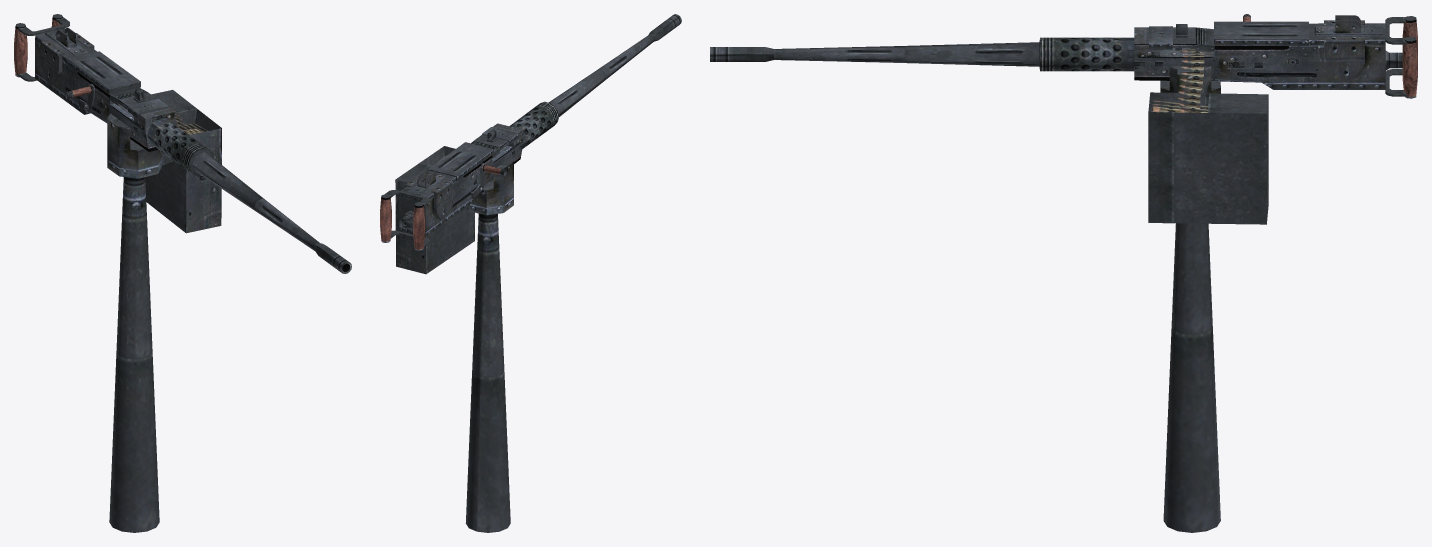
File: e50etek.glb
3 renders of one model, left to right at view 1: azimuth 30°, elevation 25°; view 2: azimuth 150°, elevation 25°; view 3: azimuth 270°, elevation 25°, orthographic. The views are drawn at different scales.
Visible parts, largest first — view 1: _e50etek; view 2: _e50etek; view 3: _e50etek.
Part boxes in pixels (x1,y1,x2,y2): _e50etek: (14,14,351,532); _e50etek: (380,14,681,532); _e50etek: (710,14,1417,532).
Bounding box in the file's own units: 0.4873 × 1.8 × 2.3.
2 materials, 2 textured.
